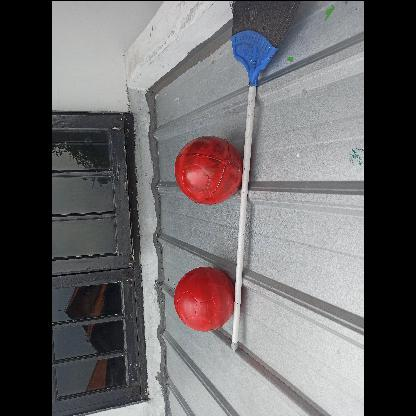red_ball: (174, 134, 244, 204), (172, 268, 234, 330)
